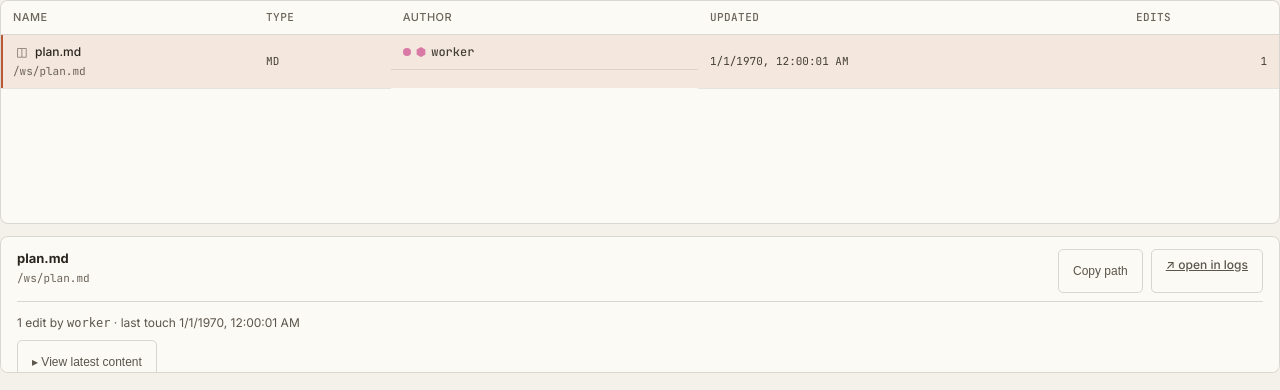
Test: ArtifactsView — Copy path reports what it did › clicking Copy path writes the file path and confirms it on the button
Step 1. Click the button "Copy path" → (1100, 271), box [1058, 249, 1143, 293]
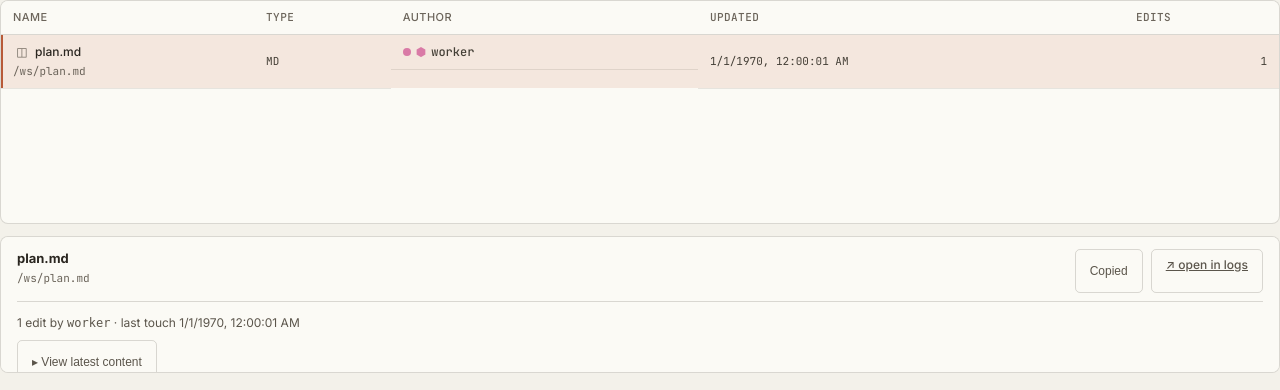
Expected: the button "Copied" is shown, [1075, 249, 1143, 293]
